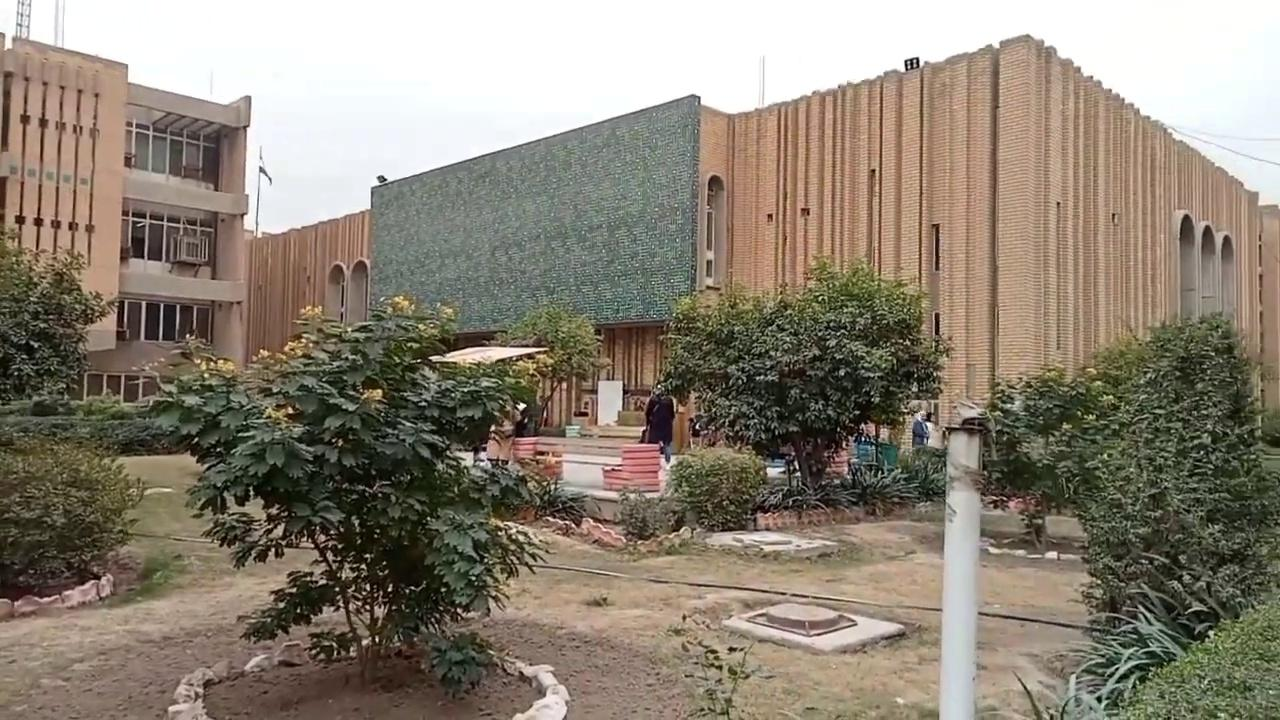person: (643, 383, 676, 464), (911, 410, 930, 447)
tree: (135, 293, 588, 693), (984, 308, 1278, 647), (653, 253, 953, 494), (0, 432, 146, 599), (0, 220, 118, 405), (981, 362, 1116, 519), (503, 301, 613, 432), (665, 443, 768, 532)
